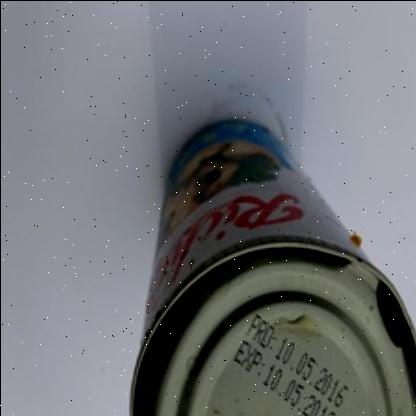Can: (128, 116, 416, 416)
